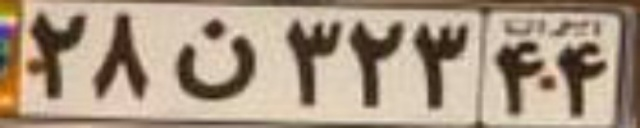2: (345, 20, 408, 108), (27, 8, 81, 98)
3: (282, 17, 347, 107), (413, 18, 469, 108)
4: (556, 40, 607, 118), (493, 41, 544, 115)
8: (91, 11, 147, 99)
non: (173, 17, 257, 101)
